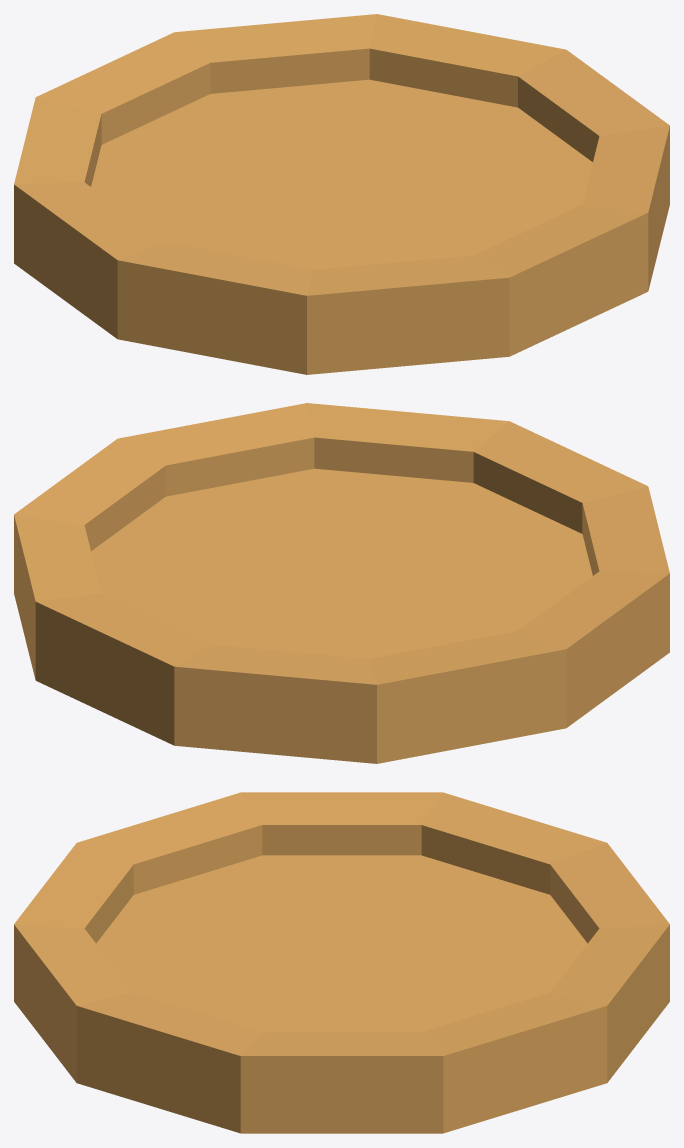
File: coin.fbx
3 renders of one model, top to bottom at view 1: azimuth 30°, elevation 25°; view 2: azimuth 150°, elevation 25°; view 3: azimuth 270°, elevation 25°, orthographic. The views are drawn at different scales.
Parts seen in each view (by area): view 1: Cylinder.001; view 2: Cylinder.001; view 3: Cylinder.001.
Boxes of the visible parts, x1=… form: Cylinder.001: x1=14, y1=14, x2=669, y2=374; Cylinder.001: x1=14, y1=403, x2=669, y2=763; Cylinder.001: x1=14, y1=792, x2=669, y2=1133.
Bounding box in the file's own units: 190 × 26.03 × 200.
